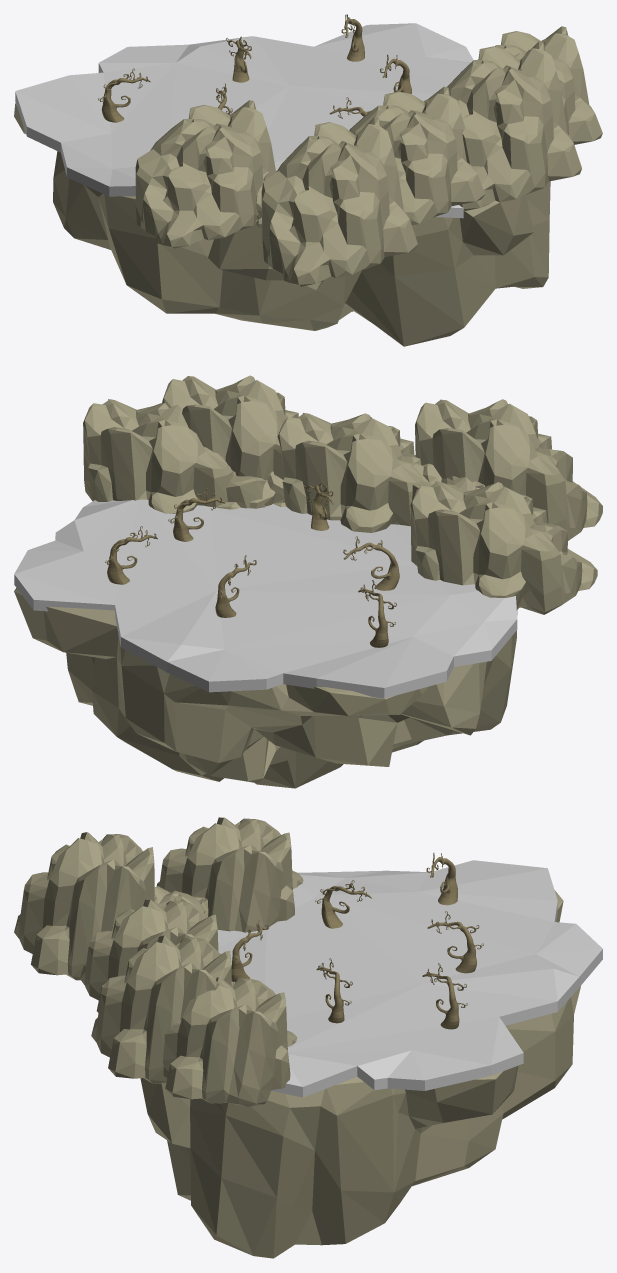
Rendered from island_game_final_01.fbx.
3 renders of one model, top to bottom at view 1: azimuth 30°, elevation 25°; view 2: azimuth 150°, elevation 25°; view 3: azimuth 270°, elevation 25°, orthographic. The views are drawn at different scales.
Visible parts, largest first — view 1: Cube.007, floor, Cube.005, Cube.004, Cube.008, Cube.002, Cube.006, DEAD_TREE.004, DEAD_TREE.005, DEAD_TREE.003, DEAD_TREE.002; view 2: floor, Cube.007, Cube.004, Cube.002, Cube.005, Cube.006, Cube.008, Cube.001, Cube.003, DEAD_TREE.001, DEAD_TREE.005, DEAD_TREE.002 (+3 smaller); view 3: floor, Cube.007, Cube.006, Cube.005, Cube.008, Cube.004, Cube.002, DEAD_TREE.003, DEAD_TREE.001, DEAD_TREE.005, DEAD_TREE.004, DEAD_TREE.002 (+2 smaller).
Boxes of the visible parts, bbox=[...] form: Cube.007: bbox=[14, 103, 550, 346]; floor: bbox=[15, 23, 473, 218]; Cube.005: bbox=[261, 117, 417, 286]; Cube.004: bbox=[135, 100, 275, 248]; Cube.008: bbox=[447, 41, 581, 210]; Cube.002: bbox=[349, 86, 484, 225]; Cube.006: bbox=[478, 26, 602, 144]; DEAD_TREE.004: bbox=[98, 68, 150, 122]; DEAD_TREE.005: bbox=[341, 14, 364, 61]; DEAD_TREE.003: bbox=[226, 36, 251, 82]; DEAD_TREE.002: bbox=[380, 54, 411, 93]; floor: bbox=[14, 499, 517, 698]; Cube.007: bbox=[14, 588, 517, 788]; Cube.004: bbox=[410, 481, 597, 614]; Cube.002: bbox=[277, 413, 422, 532]; Cube.005: bbox=[415, 399, 602, 540]; Cube.006: bbox=[83, 399, 235, 513]; Cube.008: bbox=[162, 375, 298, 508]; Cube.001: bbox=[217, 466, 286, 509]; Cube.003: bbox=[412, 463, 484, 500]; DEAD_TREE.001: bbox=[343, 536, 399, 590]; DEAD_TREE.005: bbox=[105, 526, 157, 584]; DEAD_TREE.002: bbox=[168, 488, 224, 541]; floor: bbox=[217, 860, 602, 1097]; Cube.007: bbox=[140, 890, 580, 1258]; Cube.006: bbox=[163, 977, 297, 1106]; Cube.005: bbox=[14, 832, 154, 980]; Cube.008: bbox=[91, 935, 231, 1083]; Cube.004: bbox=[156, 817, 303, 932]; Cube.002: bbox=[80, 899, 221, 1012]; DEAD_TREE.003: bbox=[427, 911, 483, 973]; DEAD_TREE.001: bbox=[315, 880, 371, 928]; DEAD_TREE.005: bbox=[422, 963, 467, 1029]; DEAD_TREE.004: bbox=[426, 852, 457, 905]; DEAD_TREE.002: bbox=[316, 958, 352, 1023].
Size of the model in its own units: 3183 by 1839 by 3420.
